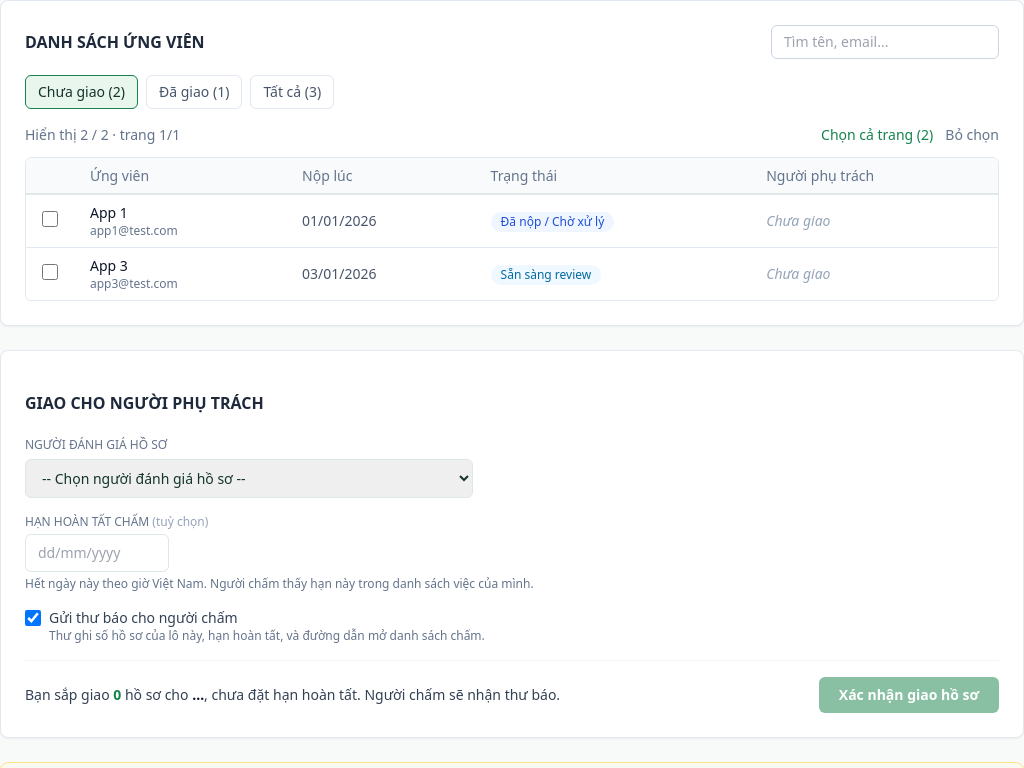
Test: Manual Bulk Assignment UX (AssignBulkForm) › EXPLICIT_APPLICATION_SELECTION: allows selecting applications via checkbox and updates count
Click the tab with test id "pool-tab-all" at (292, 92), box [250,75,334,109]
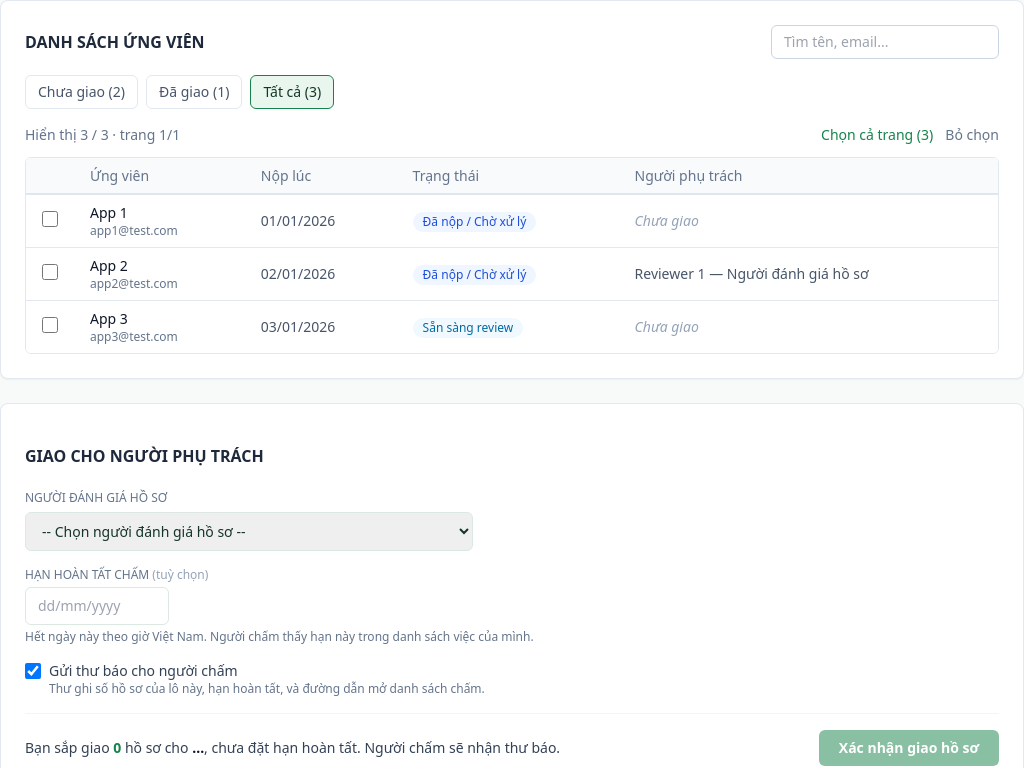
Click the checkbox named "Chọn App 1" at (50, 218), box [42,210,58,226]
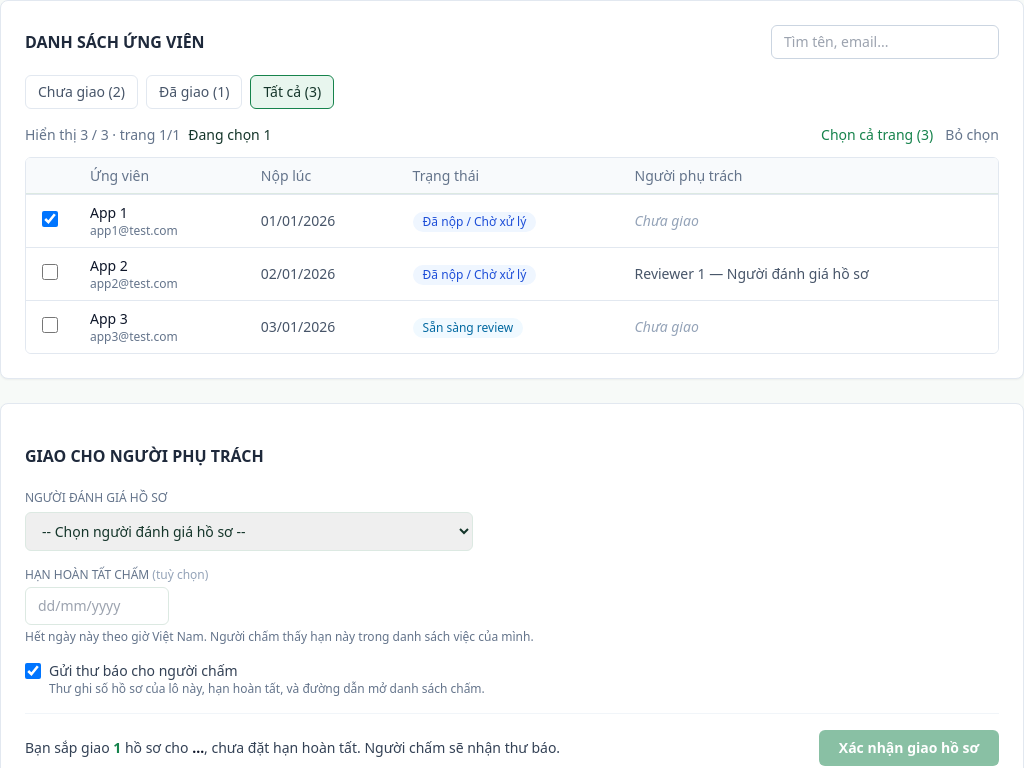
Expected: the checkbox named "Chọn App 1" is checked, [42,210,58,226]
Expected: the text "Bạn sắp giao" shows "1", [113,738,121,757]
Click the checkbox named "Chọn App 3" at (50, 324), box [42,316,58,332]
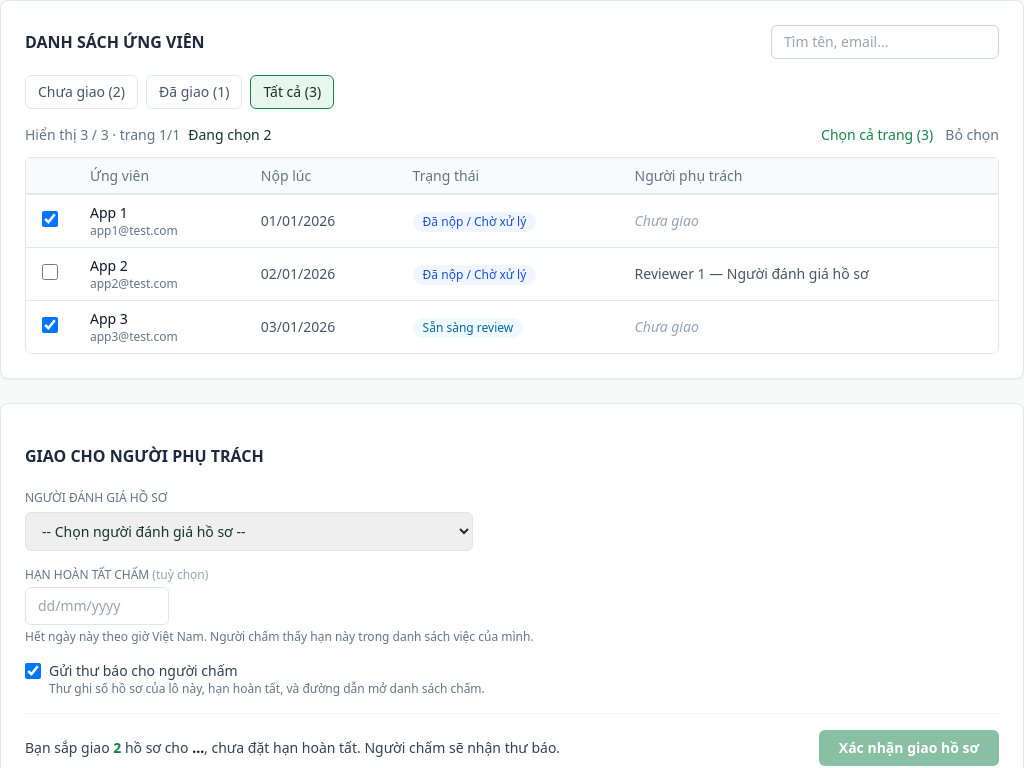
Expected: the text "Bạn sắp giao" shows "2", [113,738,121,757]
